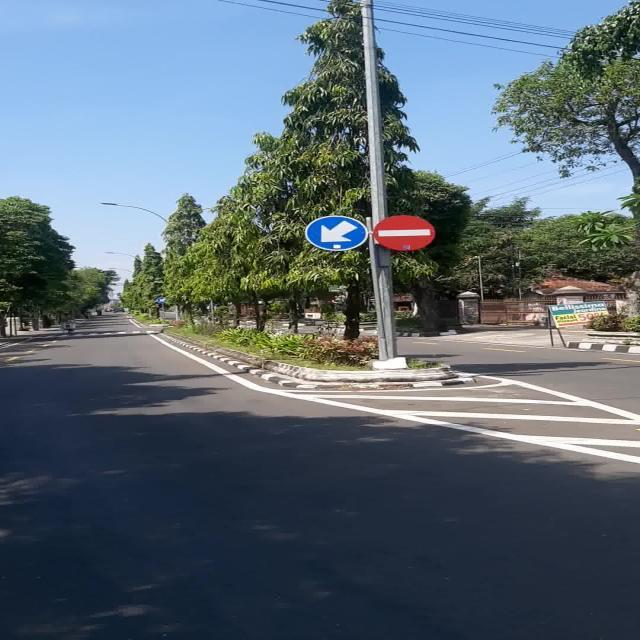Dilarang Masuk: (375, 217, 437, 252)
Lajur Kiri: (306, 216, 369, 252)
